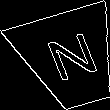N_S: (39, 29, 102, 90)
